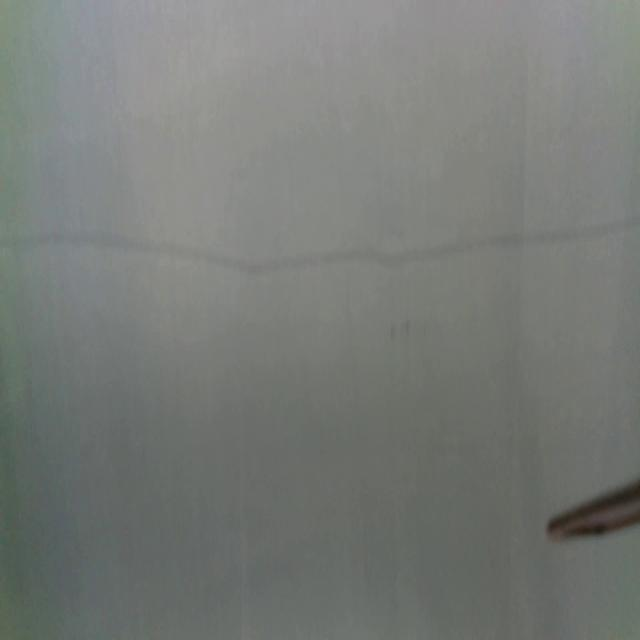color bleeding: (0, 215, 640, 273)
